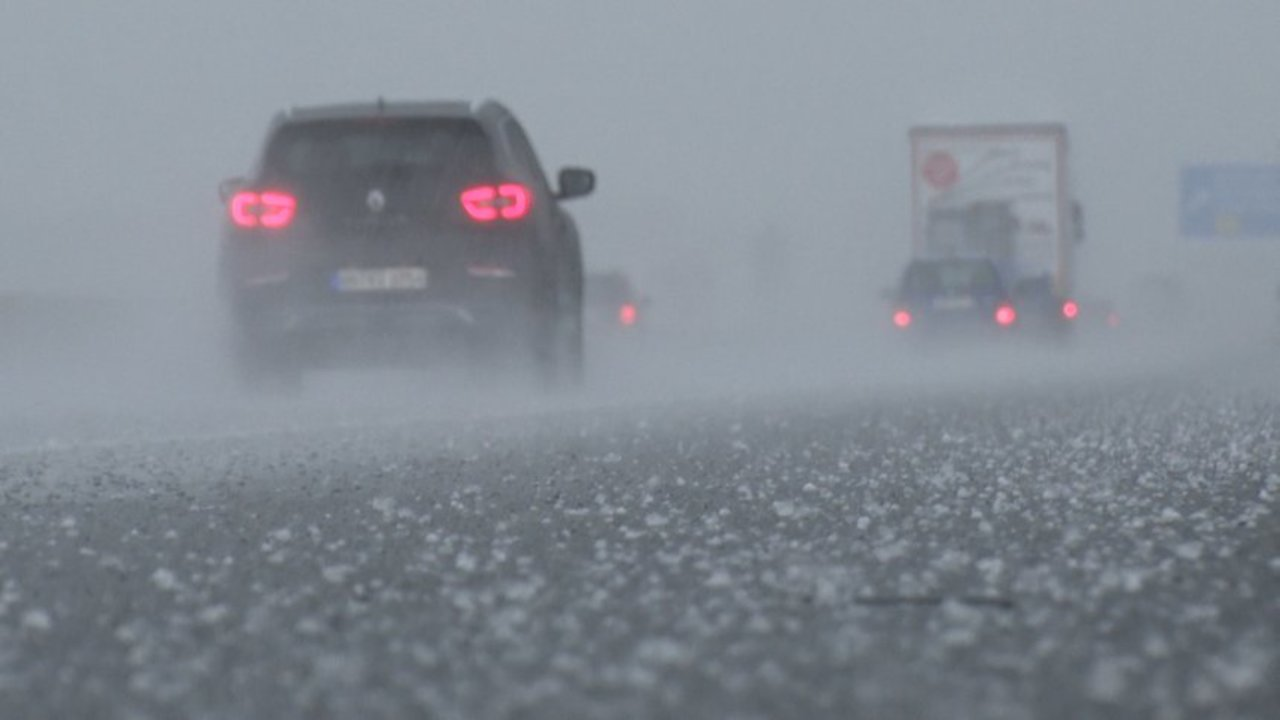car: (207, 100, 599, 407), (878, 253, 1015, 353), (586, 266, 657, 363), (1077, 283, 1121, 344)
truck: (910, 120, 1080, 358)
